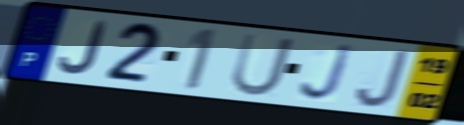1: (184, 26, 219, 93)
2: (100, 18, 168, 90)
J: (297, 42, 357, 104), (353, 47, 412, 110), (57, 20, 110, 77)
U: (228, 31, 298, 99)
